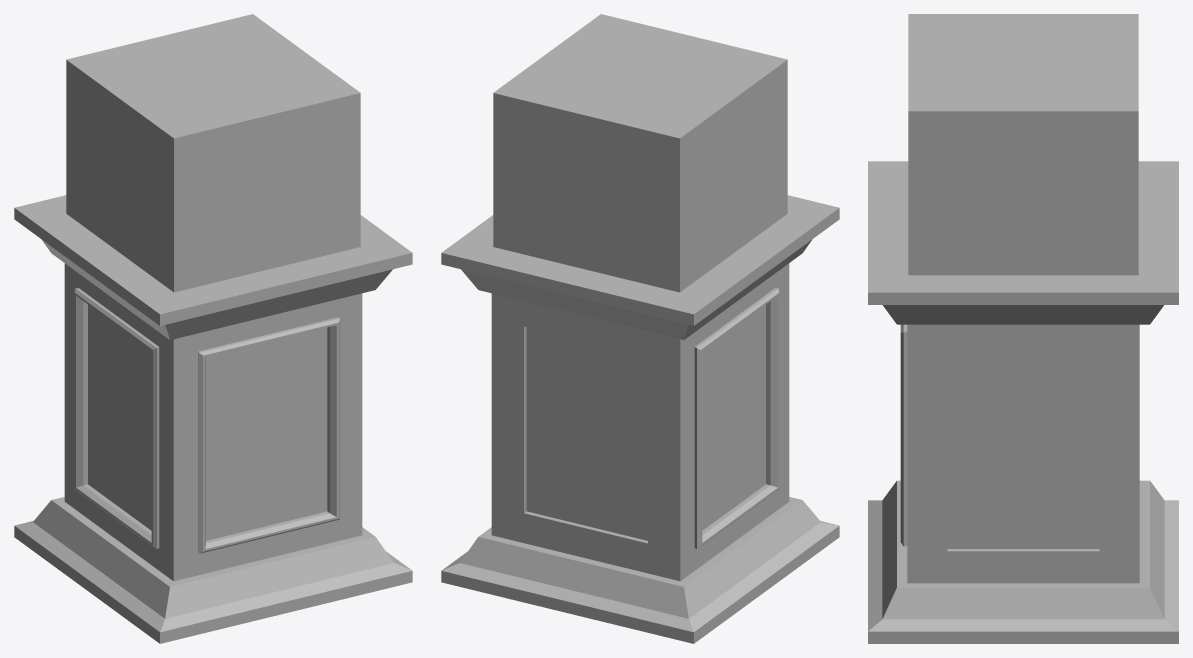
The model's file is Pillar_Fallen (1).fbx.
3 renders of one model, left to right at view 1: azimuth 30°, elevation 25°; view 2: azimuth 150°, elevation 25°; view 3: azimuth 270°, elevation 25°, orthographic. The views are drawn at different scales.
Visible parts, largest first — view 1: Pillar_Fallen (1); view 2: Pillar_Fallen (1); view 3: Pillar_Fallen (1).
Boxes of the visible parts, x1=… form: Pillar_Fallen (1): x1=14, y1=14, x2=412, y2=643; Pillar_Fallen (1): x1=441, y1=14, x2=839, y2=643; Pillar_Fallen (1): x1=868, y1=14, x2=1178, y2=643.
Size of the model in its own units: 0.9475 by 0.9475 by 1.73.
1 material, 1 textured.
